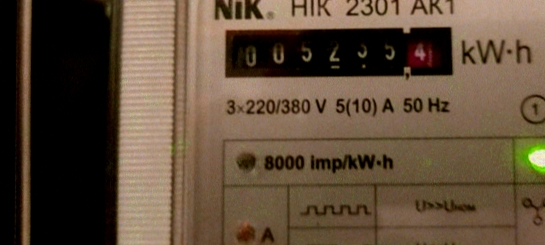0: (243, 42, 258, 67), (271, 40, 286, 64)
2: (326, 37, 342, 63)
3: (353, 34, 370, 59)
4: (411, 34, 429, 64)
5: (381, 33, 397, 61), (299, 37, 313, 62)
screen: (212, 13, 462, 88)
